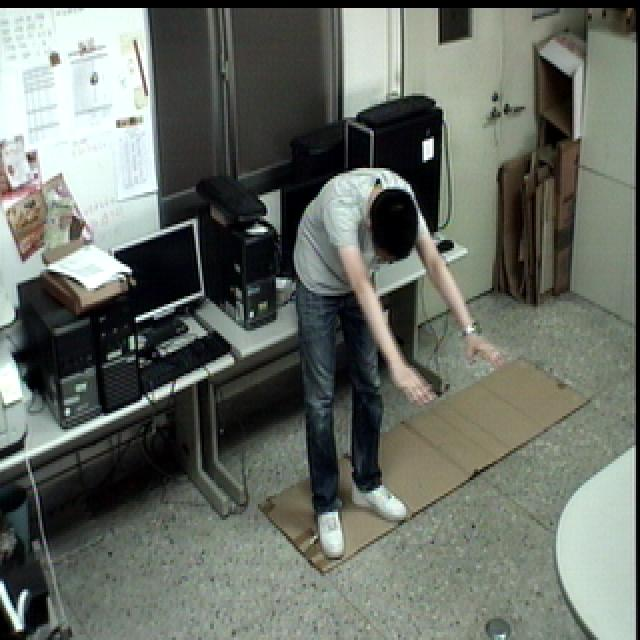bend: (273, 158, 513, 565)
